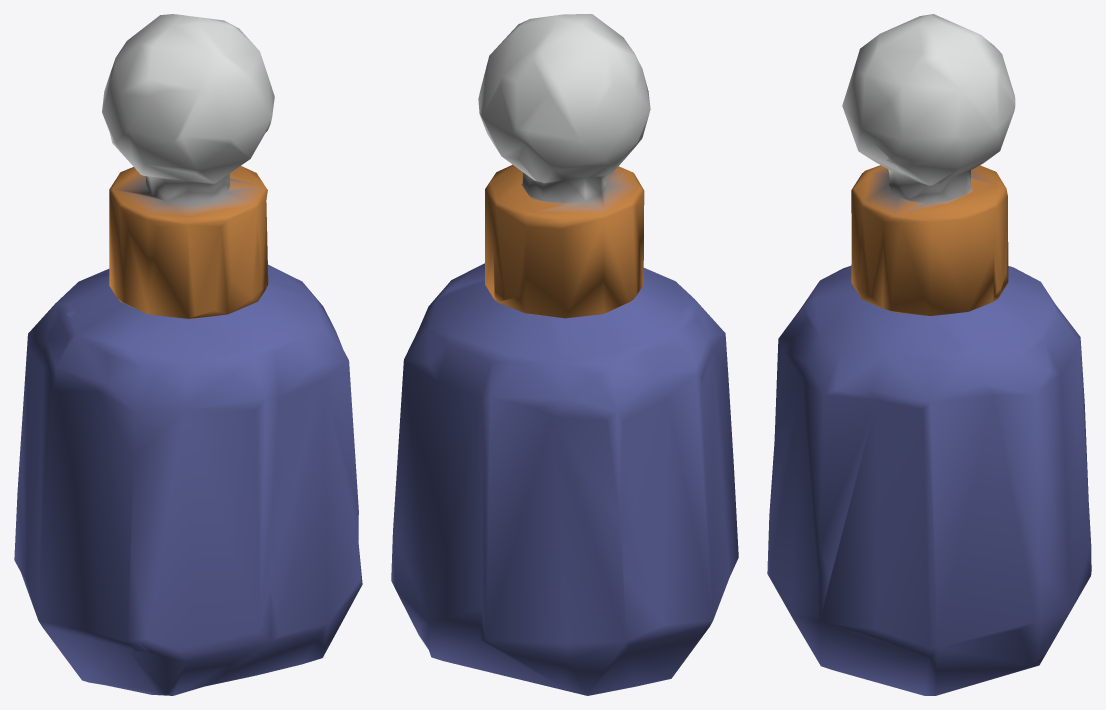
File: gen3d-perfume-bottle-lod1.glb
The picture shows the model from 3 angles, left to right: view 1: azimuth 30°, elevation 25°; view 2: azimuth 150°, elevation 25°; view 3: azimuth 270°, elevation 25°; orthographic projection.
Parts seen in each view (by area): view 1: part_0; view 2: part_0; view 3: part_0.
Part boxes in pixels (x1,y1,x2,y2): part_0: (14, 14, 362, 695); part_0: (391, 14, 738, 695); part_0: (767, 14, 1091, 695).
Bounding box in the file's own units: 0.492 × 0.9993 × 0.4704.
